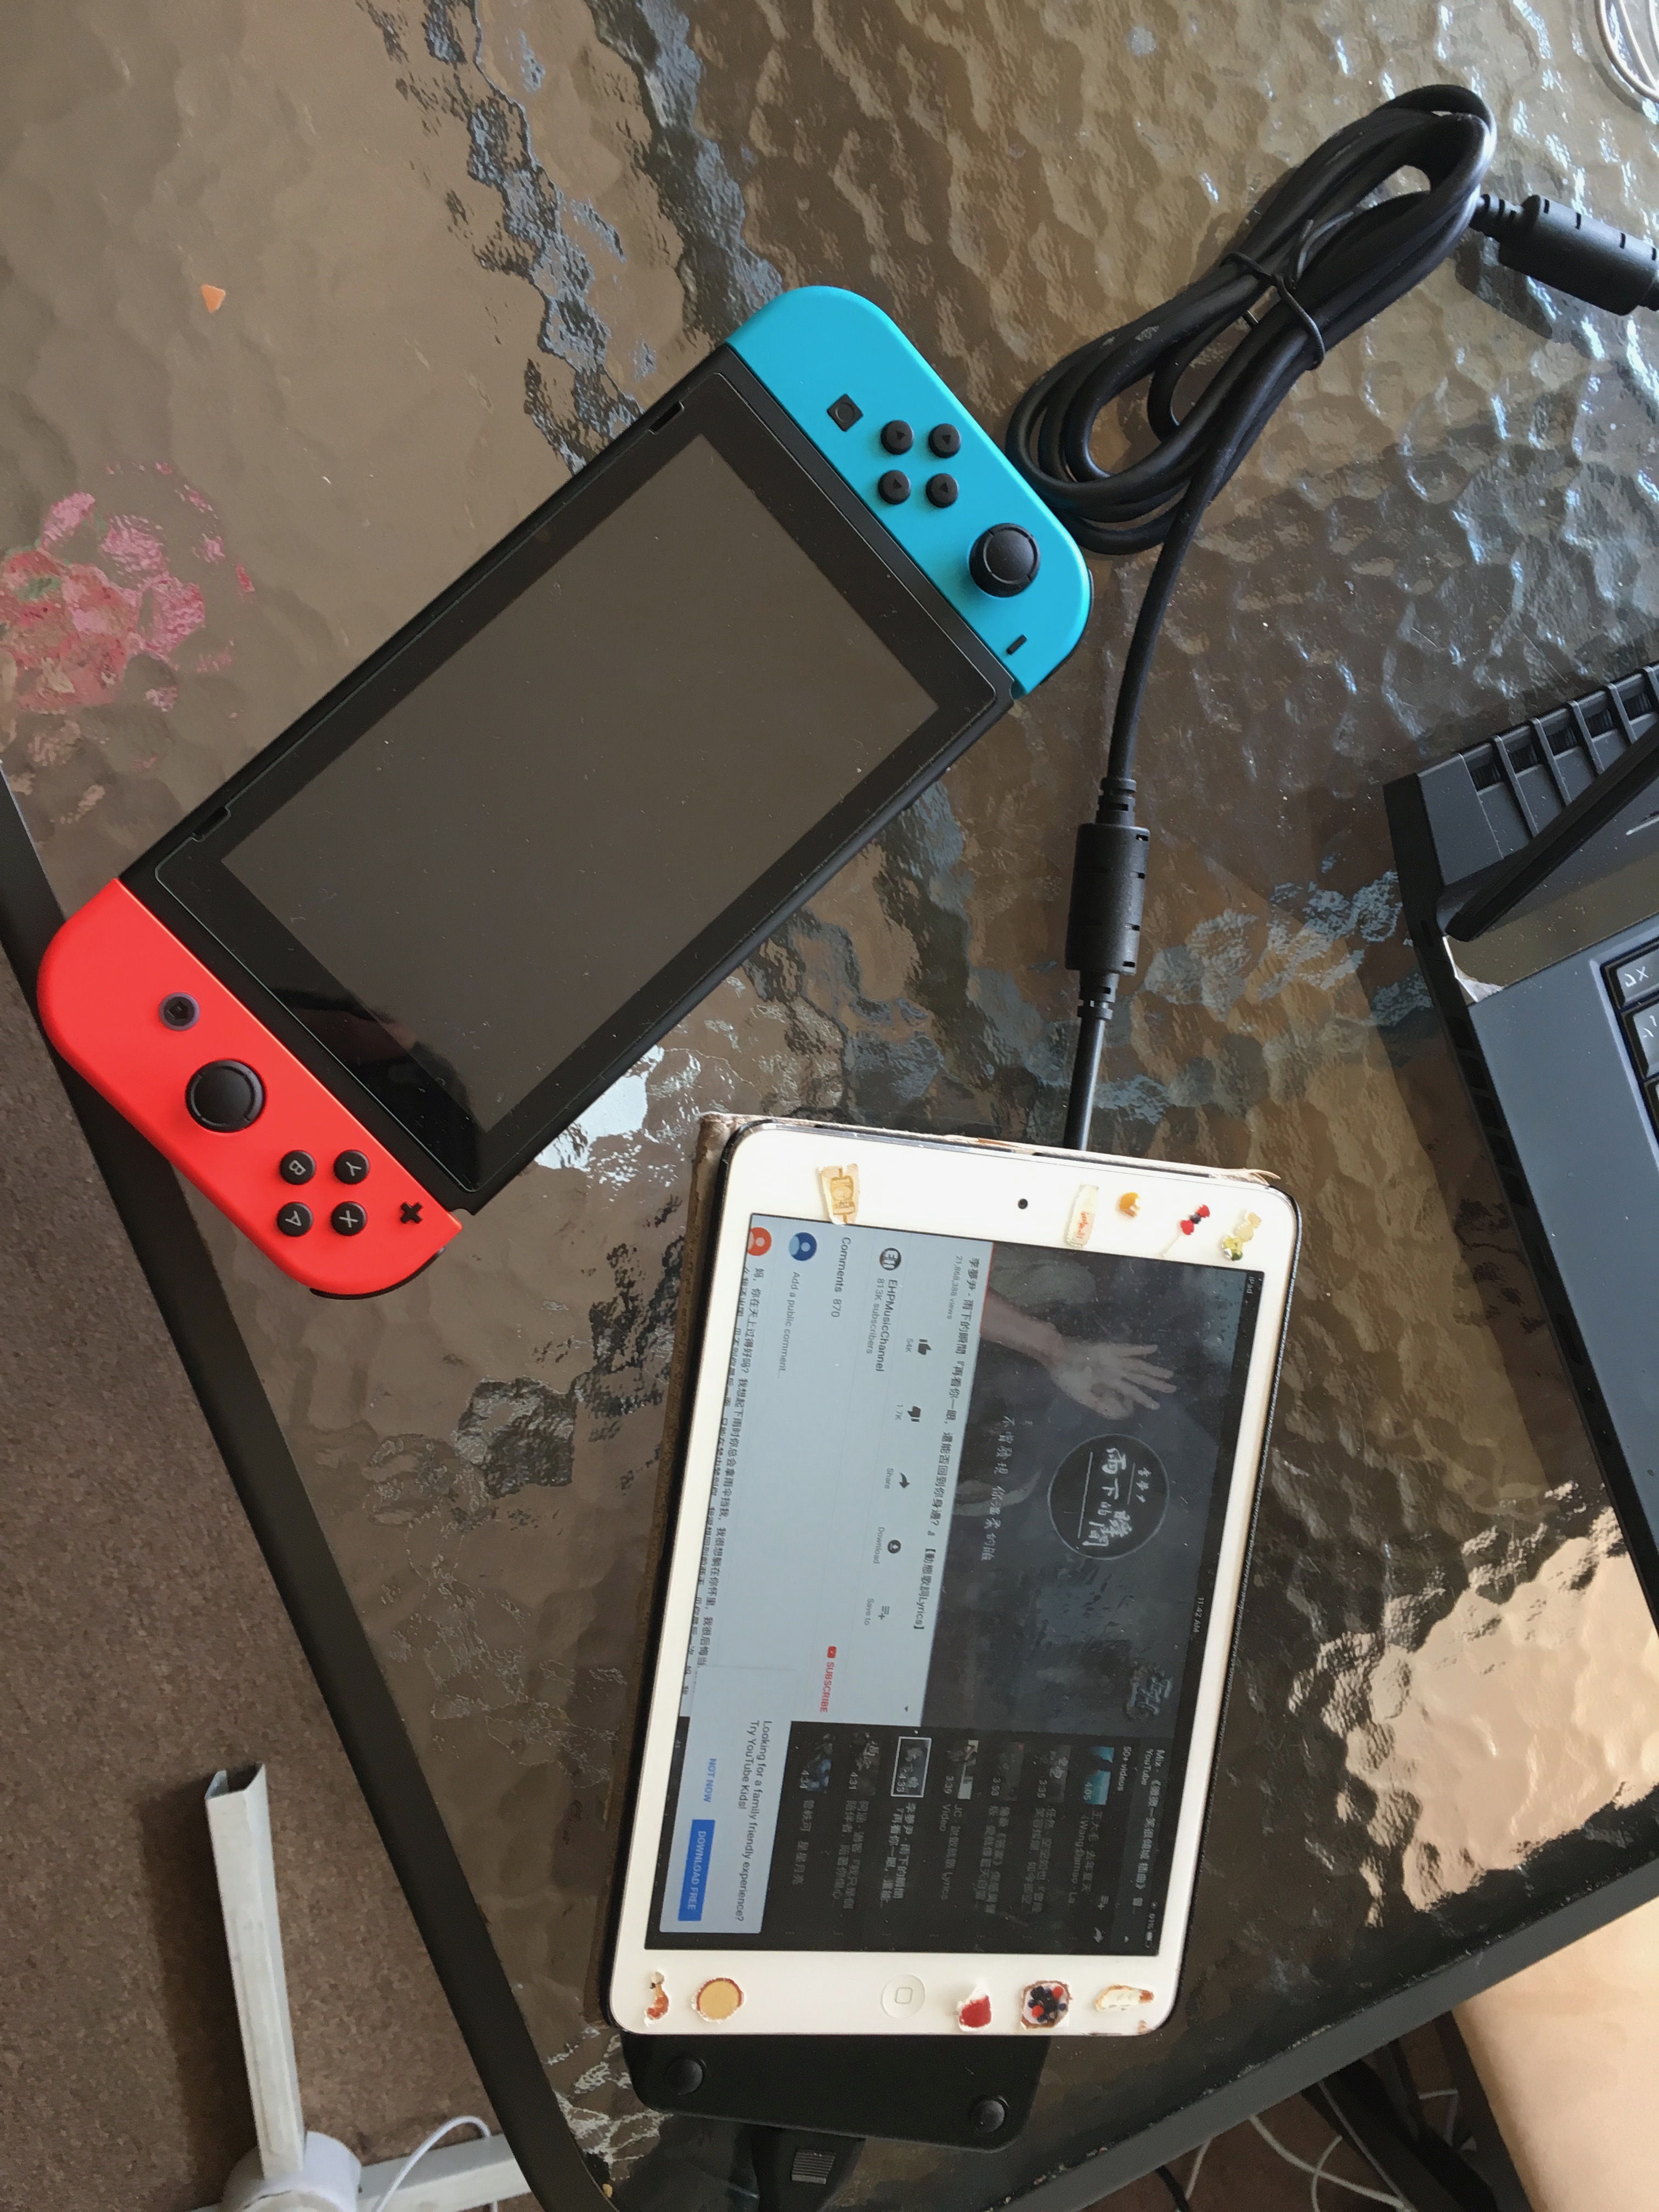NintendoSwitch: (5, 270, 1098, 1320)
